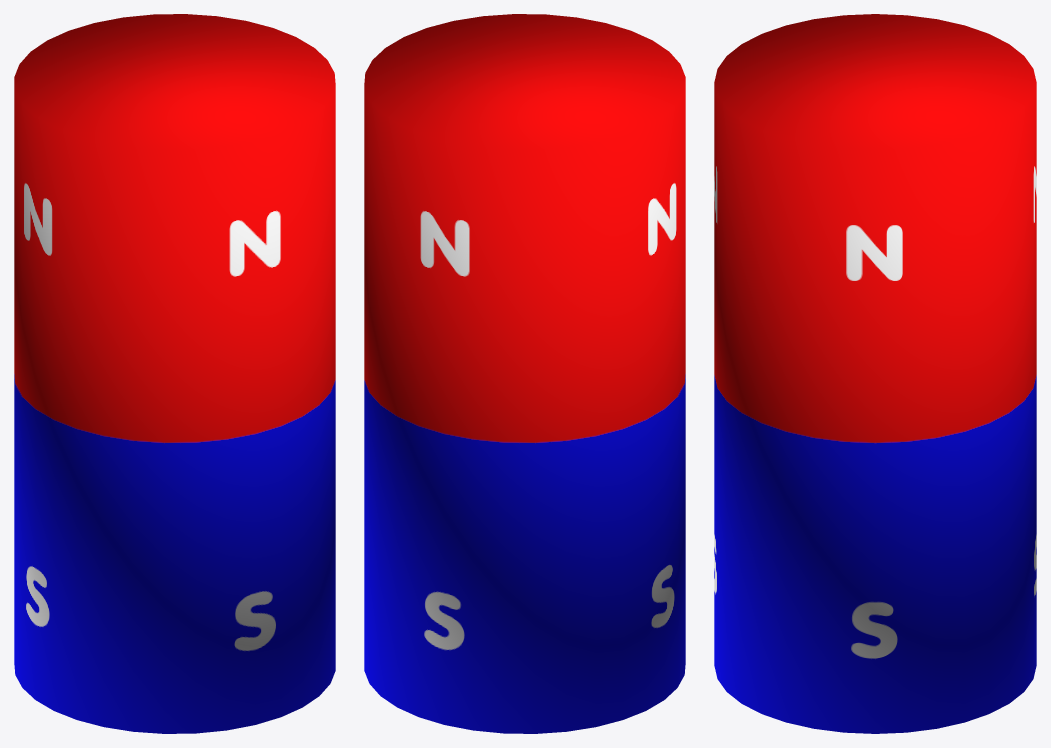
File: barMagnet.glb
The picture shows the model from 3 angles, left to right: view 1: azimuth 30°, elevation 25°; view 2: azimuth 150°, elevation 25°; view 3: azimuth 270°, elevation 25°; orthographic projection.
Visible parts, largest first — view 1: Magnet; view 2: Magnet; view 3: Magnet.
Boxes of the visible parts, <box> form: Magnet: <box>14,14,335,733</box>; Magnet: <box>364,14,685,733</box>; Magnet: <box>714,14,1036,733</box>.
Bounding box in the file's own units: 0.2 × 0.4 × 0.2.
1 material, 1 textured.
